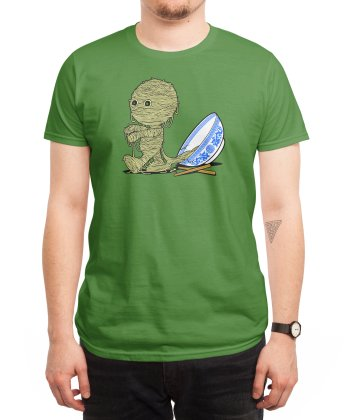design: (118, 74, 229, 181)
